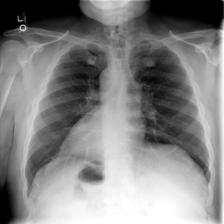normal: (20, 33, 216, 202)
